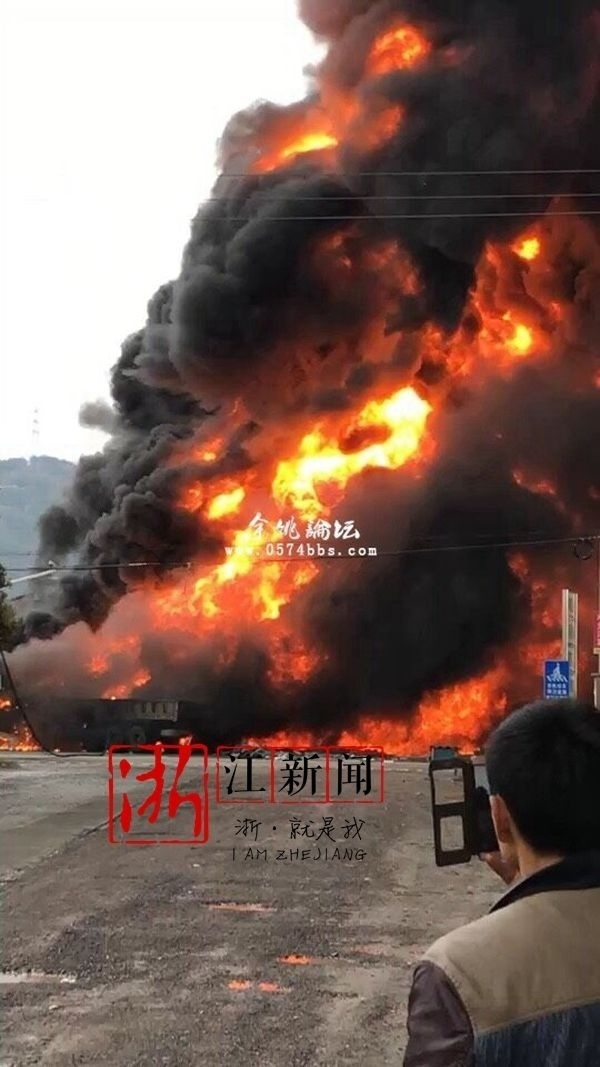fire: (59, 177, 600, 719), (270, 124, 338, 167), (0, 696, 42, 752)
